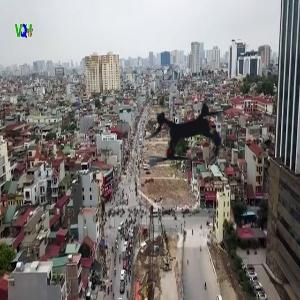drone: (122, 72, 255, 205)
